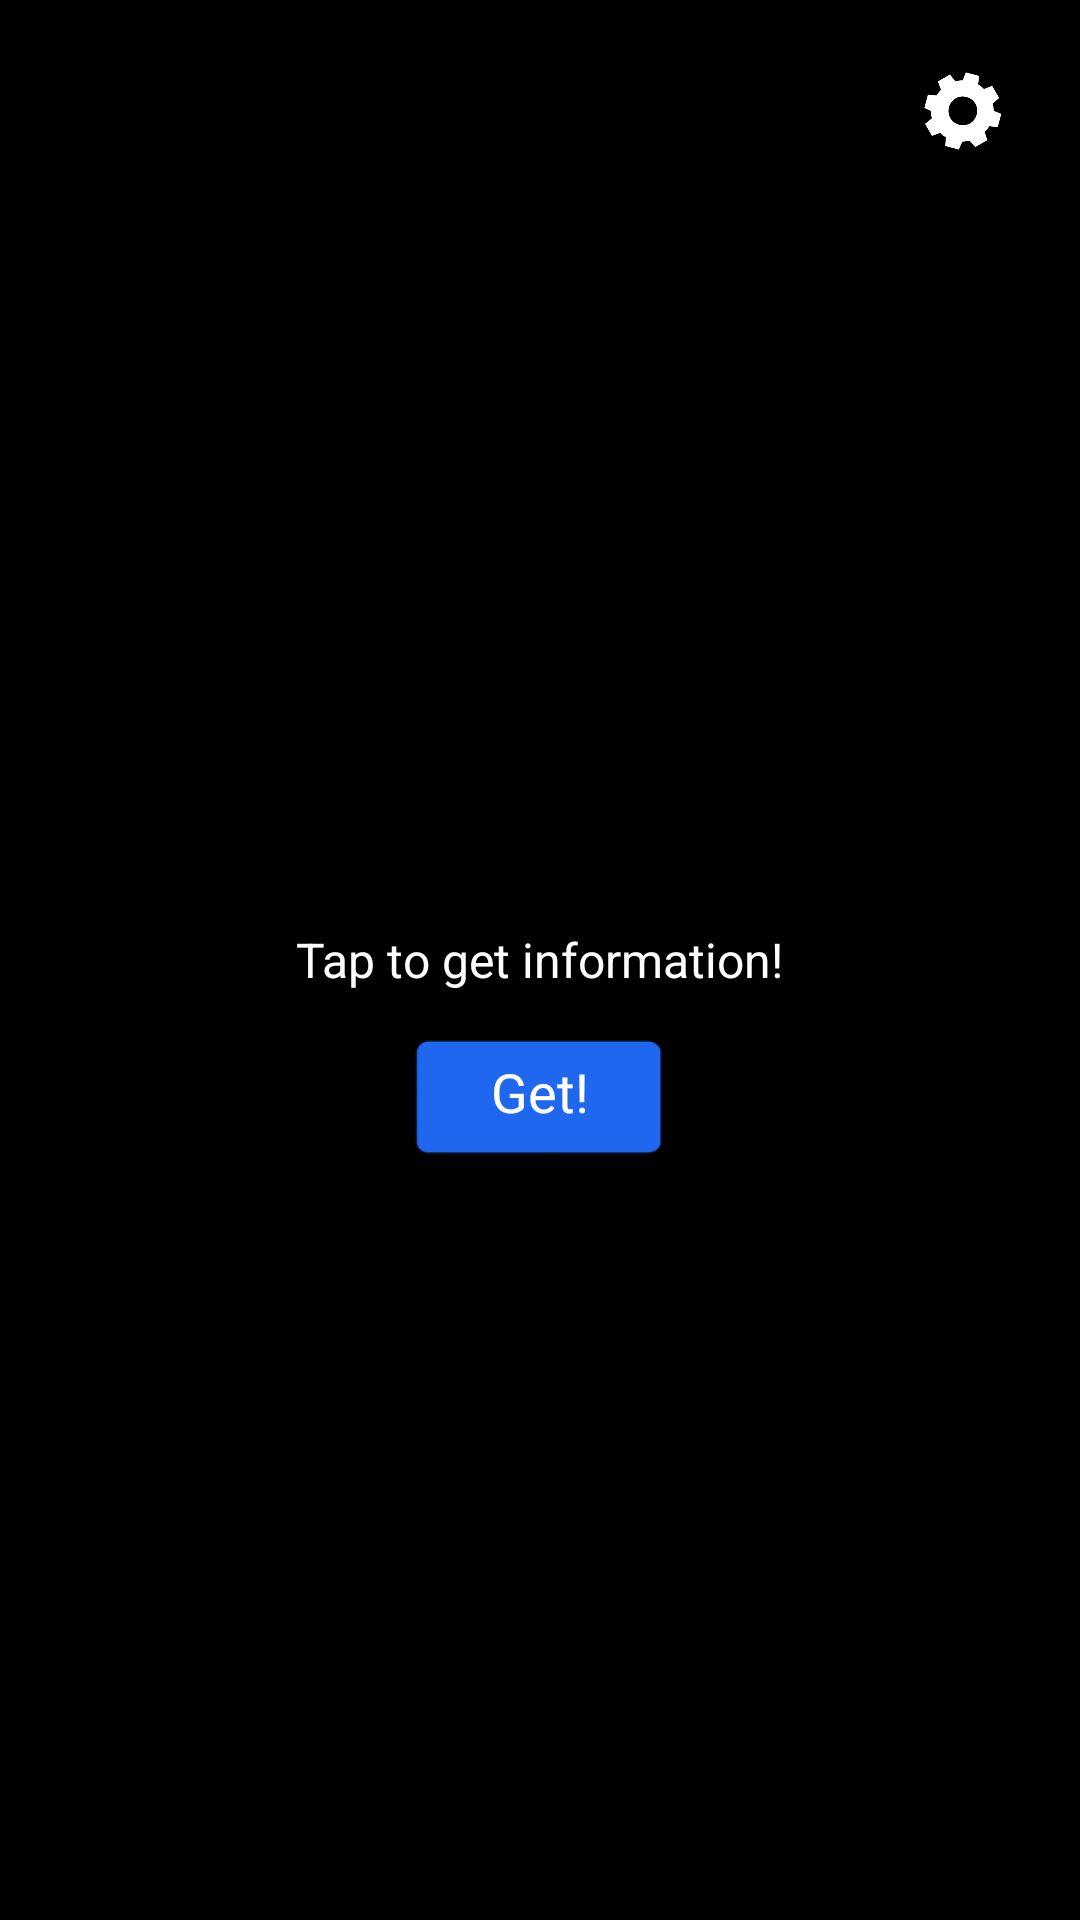

Screen size 1080x1920. Icon name, then its center in pixels as (x=x, y=y):
settings gear: (x=962, y=111)
